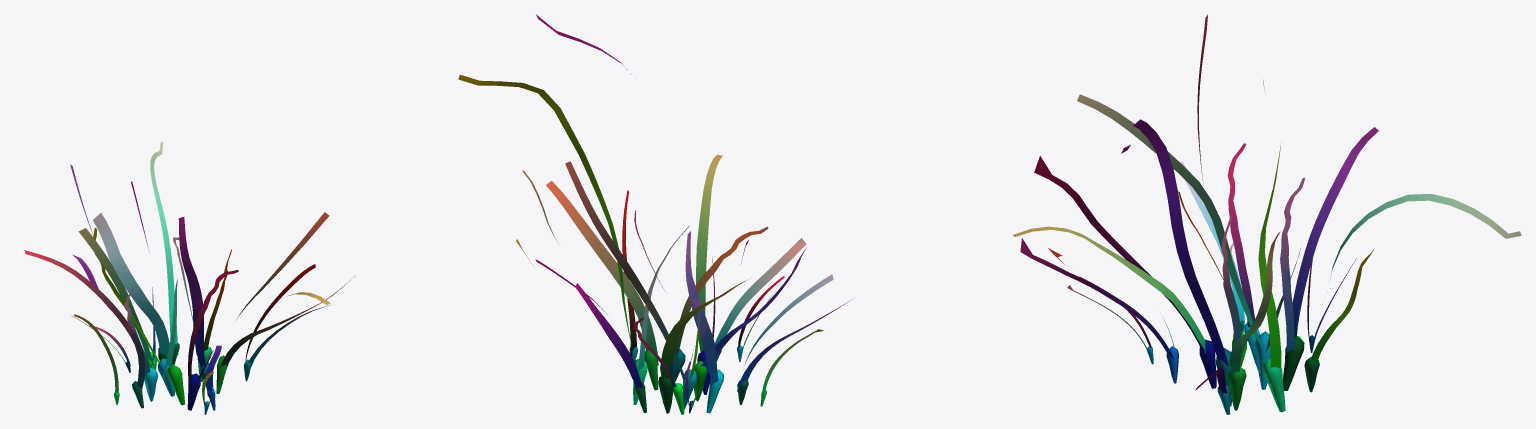
The model's file is Ribbon_Grass_tbdpec3r_High_tbdpec3r_VarD_LOD0.glb.
The picture shows the model from 3 angles, left to right: view 1: azimuth 30°, elevation 25°; view 2: azimuth 150°, elevation 25°; view 3: azimuth 270°, elevation 25°; orthographic projection. The views are drawn at different scales.
Visible parts, largest first — view 1: _d480_VarD_LOD0; view 2: _d480_VarD_LOD0; view 3: _d480_VarD_LOD0.
Part boxes in pixels (x1,y1,x2,y2): _d480_VarD_LOD0: [24, 141, 355, 414]; _d480_VarD_LOD0: [458, 14, 852, 414]; _d480_VarD_LOD0: [1013, 14, 1521, 414].
Bounding box in the file's own units: 0.4361 × 0.3589 × 0.4785.
